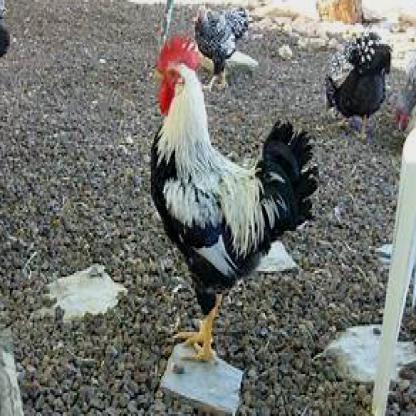chicken: (150, 35, 320, 364), (328, 29, 392, 138), (194, 6, 252, 86), (392, 50, 414, 136)
